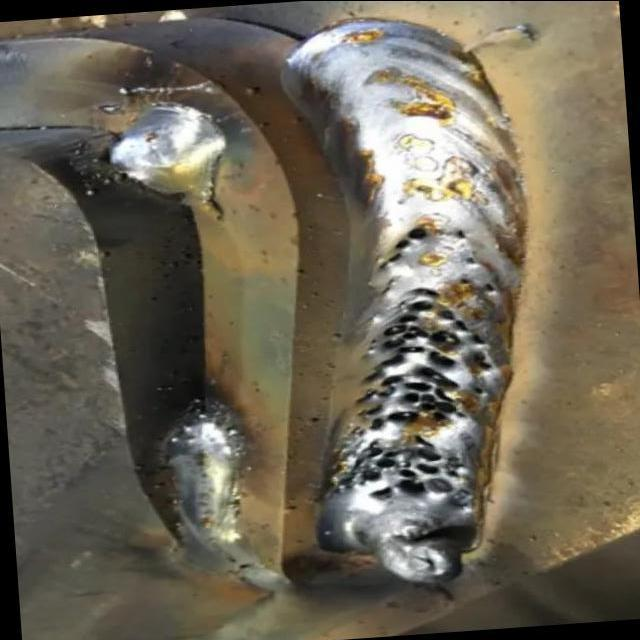defect: (316, 284, 502, 509), (371, 224, 434, 275), (446, 226, 472, 241), (481, 281, 497, 293), (462, 255, 480, 265), (457, 278, 471, 286)
